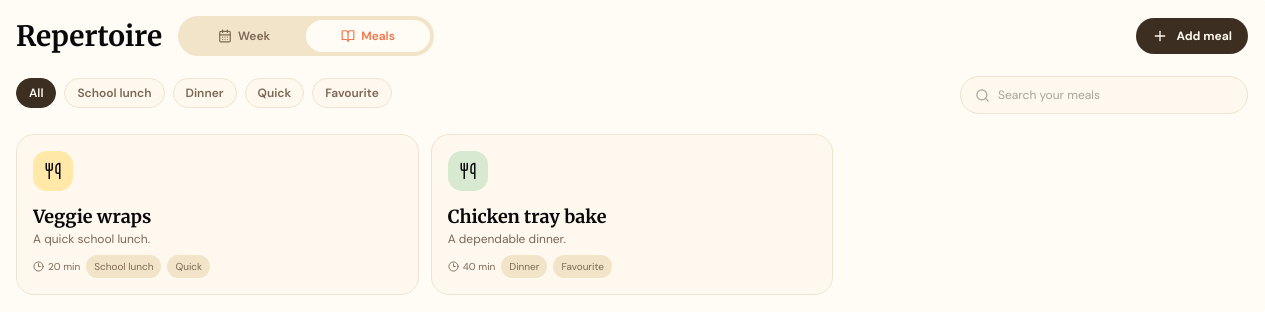
Test case: RecipeCollection › filters recipes by search and suitability
The image size is (1265, 312).
Type "chicken" into the search field labelled "Search your meals" at (1116, 95), box [998, 87, 1233, 103]
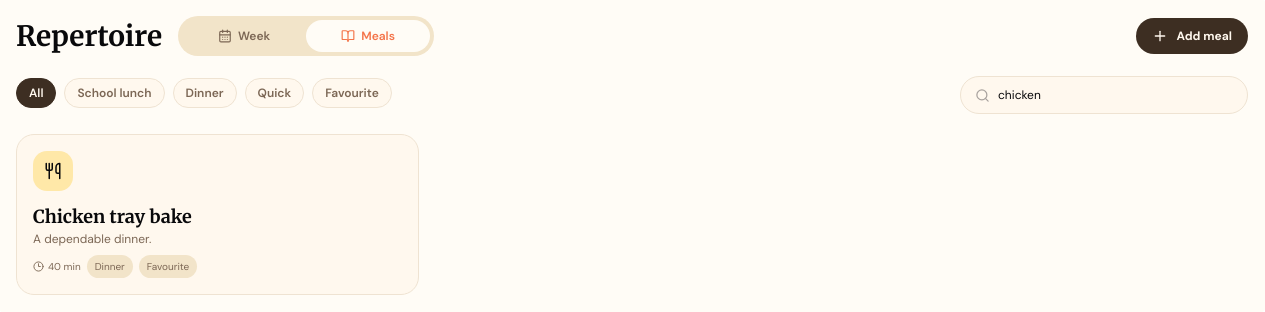
Check: the heading "Chicken tray bake" is shown, box [33, 205, 192, 228]
Check: the link "Veggie wraps" is gone
Clear the search field named "Search your meals" at (1116, 95), box [998, 87, 1233, 103]
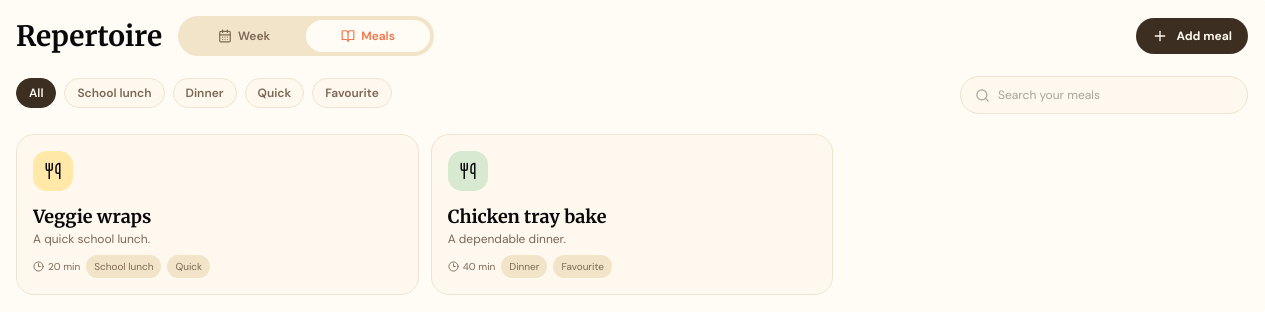
Click the button "School lunch" at (114, 93), box [64, 78, 164, 108]
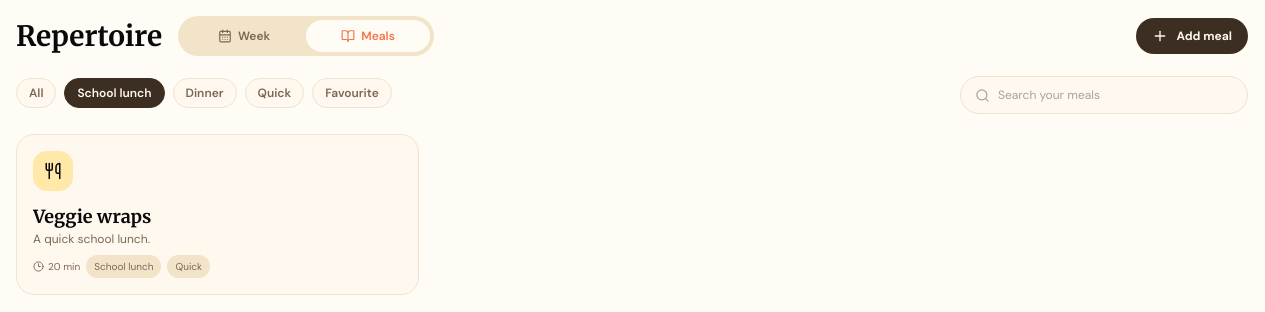
Check: the heading "Veggie wraps" is shown, box [33, 205, 151, 228]
Check: the link "Chicken tray bake" is gone
